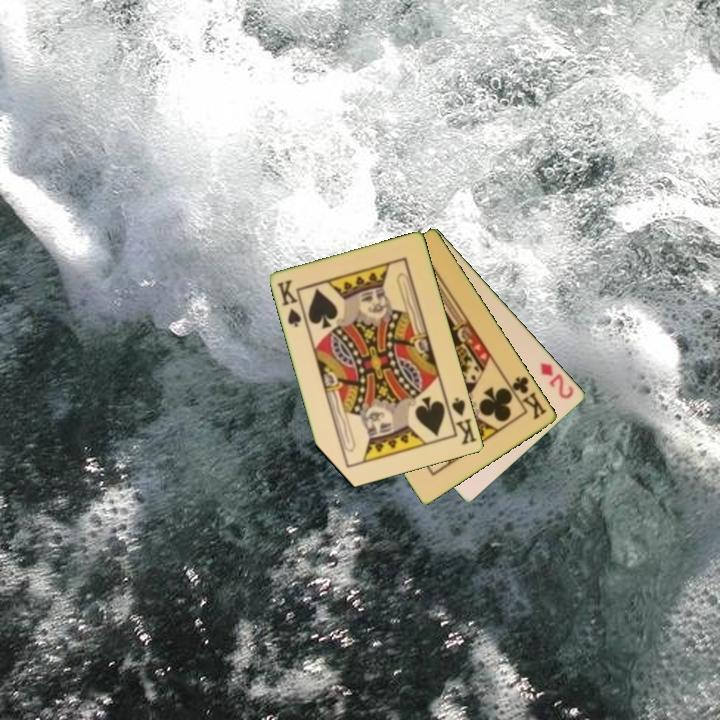2d: (537, 359, 577, 402)
Kc: (504, 373, 550, 423)
Ks: (443, 394, 480, 448), (274, 276, 304, 330)
